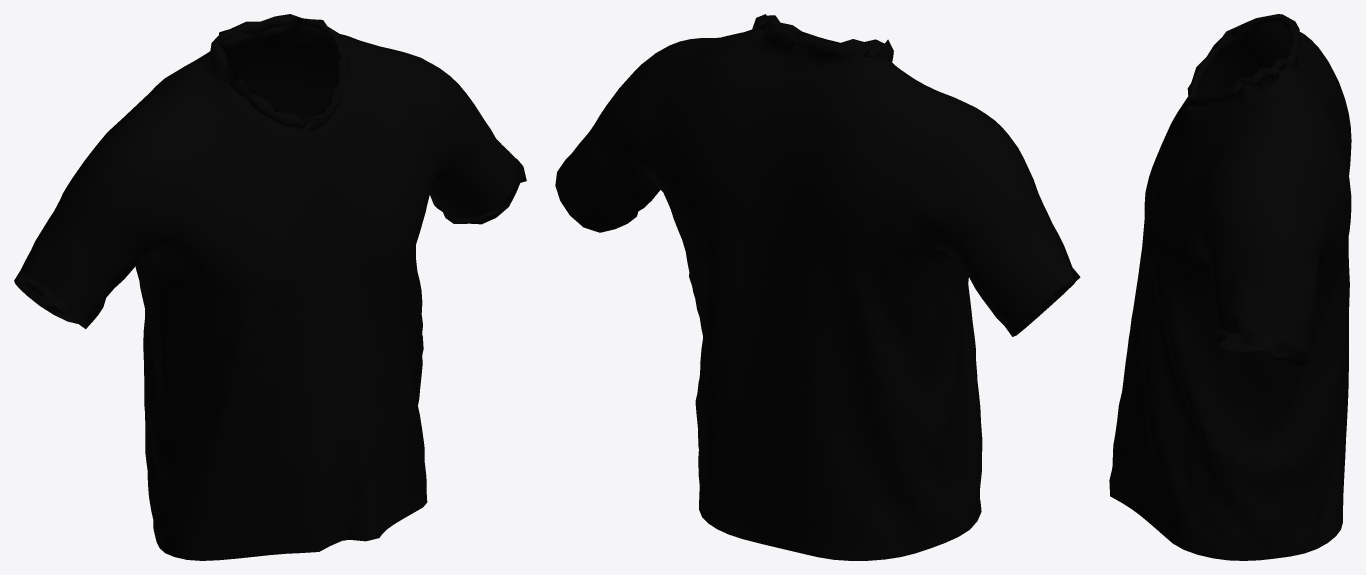
The model's file is football-jersey.glb.
3 renders of one model, left to right at view 1: azimuth 30°, elevation 25°; view 2: azimuth 150°, elevation 25°; view 3: azimuth 270°, elevation 25°, orthographic. The views are drawn at different scales.
Visible parts, largest first — view 1: Cloth; view 2: Cloth; view 3: Cloth.
Boxes of the visible parts, x1,y1,x2,y2 form: Cloth: (14,14,526,560); Cloth: (555,14,1080,560); Cloth: (1109,14,1351,560).
Bounding box in the file's own units: 0.6796 × 0.6285 × 0.2915.
Materials: 8 (8 with a texture image).
